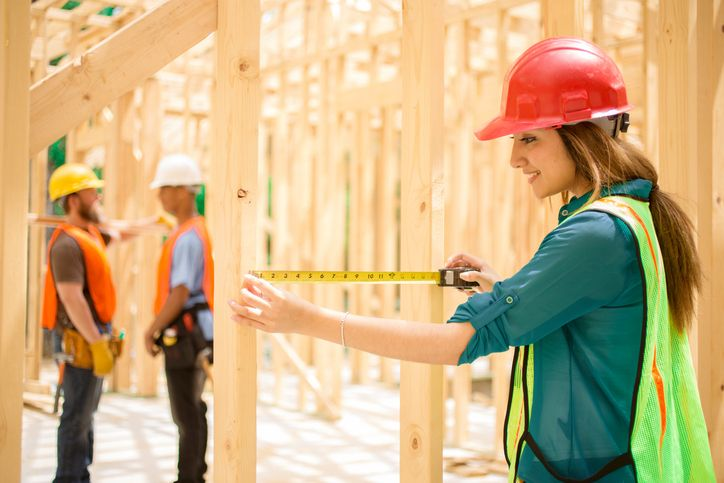Hard Hat: (472, 38, 631, 141), (48, 164, 103, 199), (150, 157, 204, 189)
High Viz: (495, 193, 711, 470), (154, 221, 214, 336), (47, 221, 115, 318)
